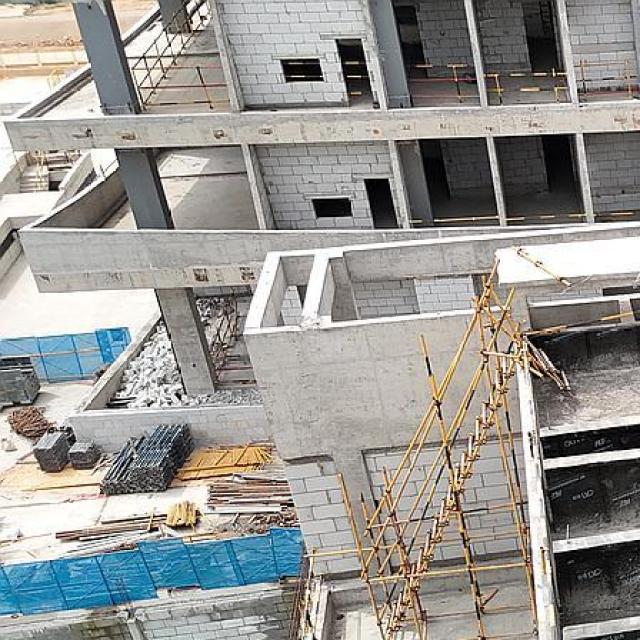edge_guardrail: (125, 0, 231, 110), (300, 548, 356, 640), (521, 308, 640, 336), (404, 61, 480, 103), (484, 72, 569, 104), (573, 59, 638, 100), (208, 310, 233, 357), (340, 61, 371, 95), (213, 366, 256, 386), (408, 216, 498, 224), (281, 62, 323, 78), (506, 213, 587, 221), (594, 212, 635, 217)
